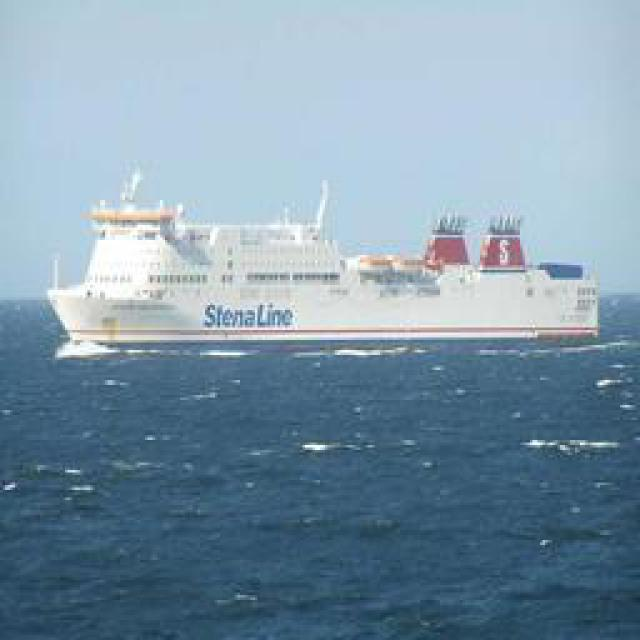Ship: (18, 190, 593, 350)
